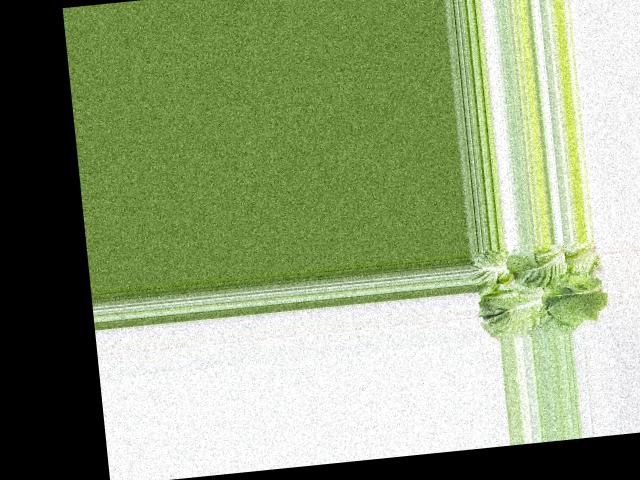lettuce: (472, 238, 607, 339)
